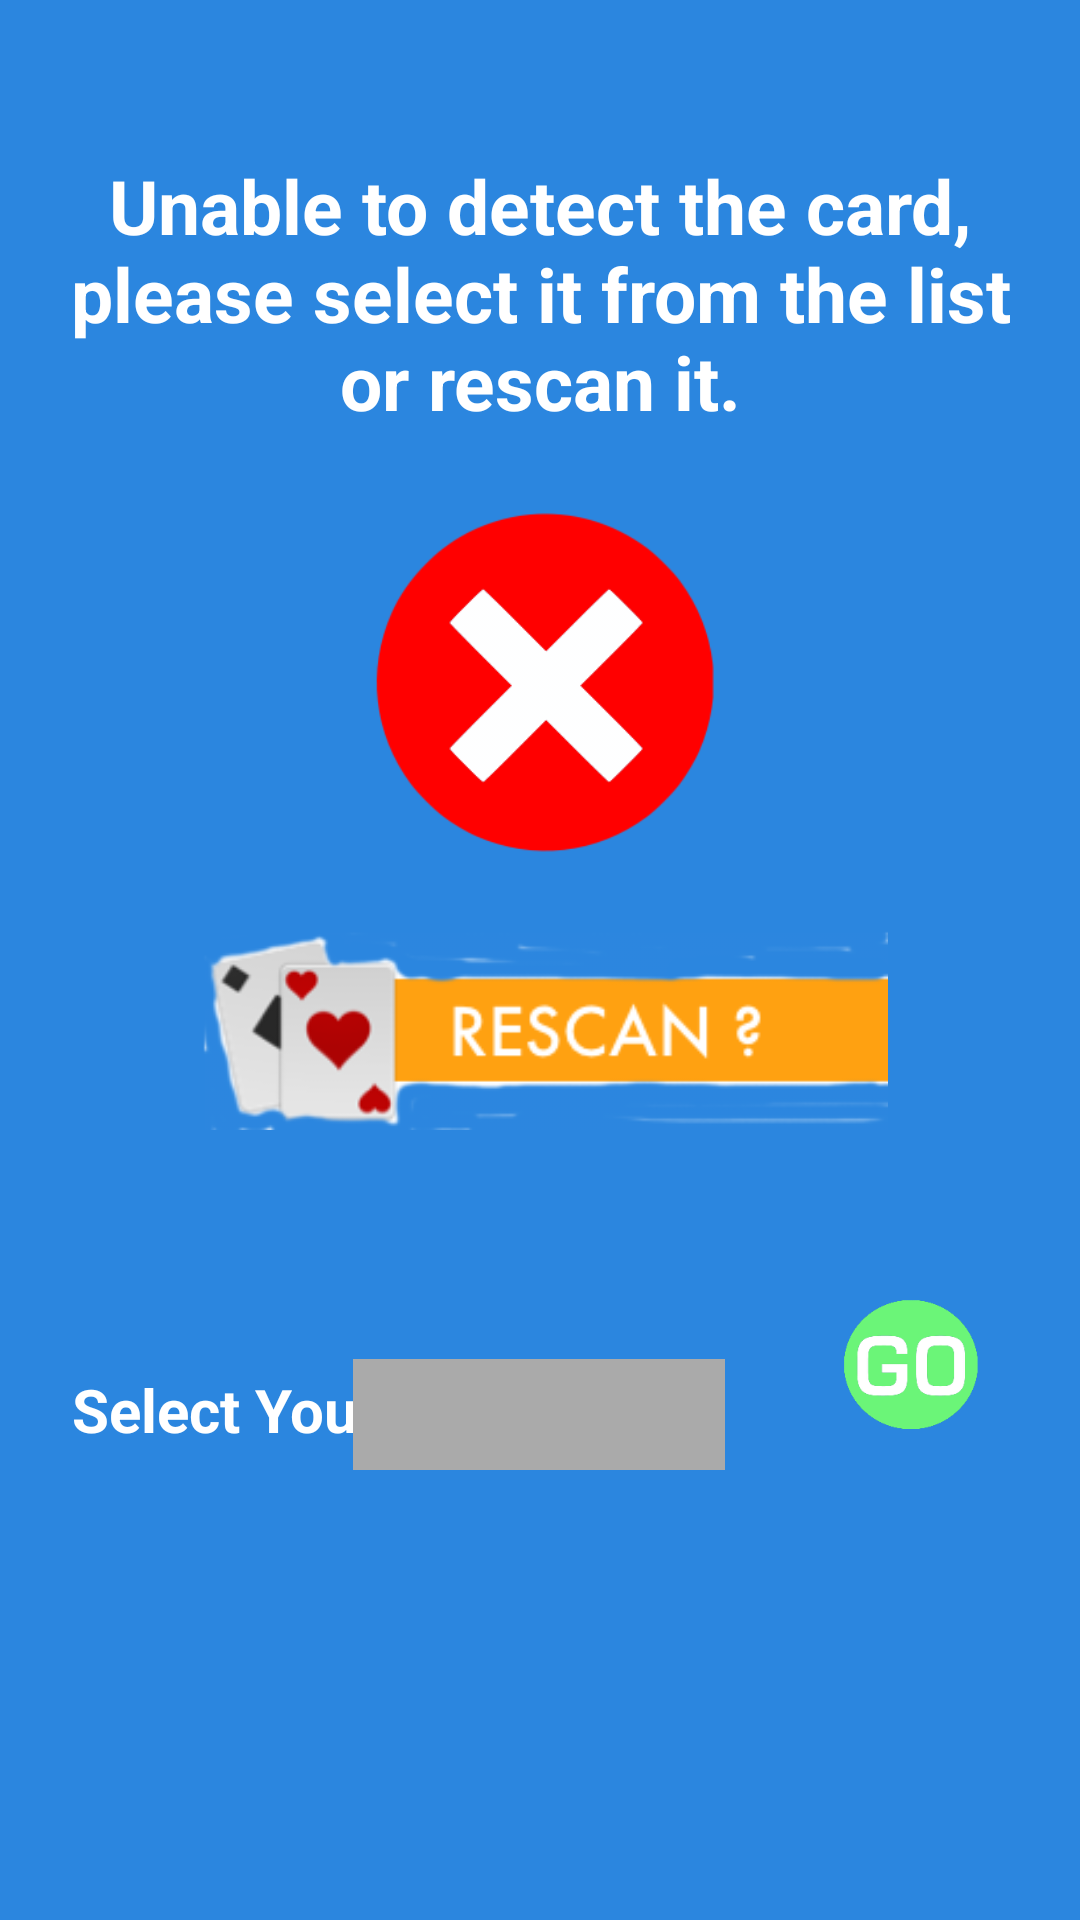

Icons on this 1080 × 1920 Android screen, each with the point to tap as (x=x, y=y):
error: (x=545, y=682)
